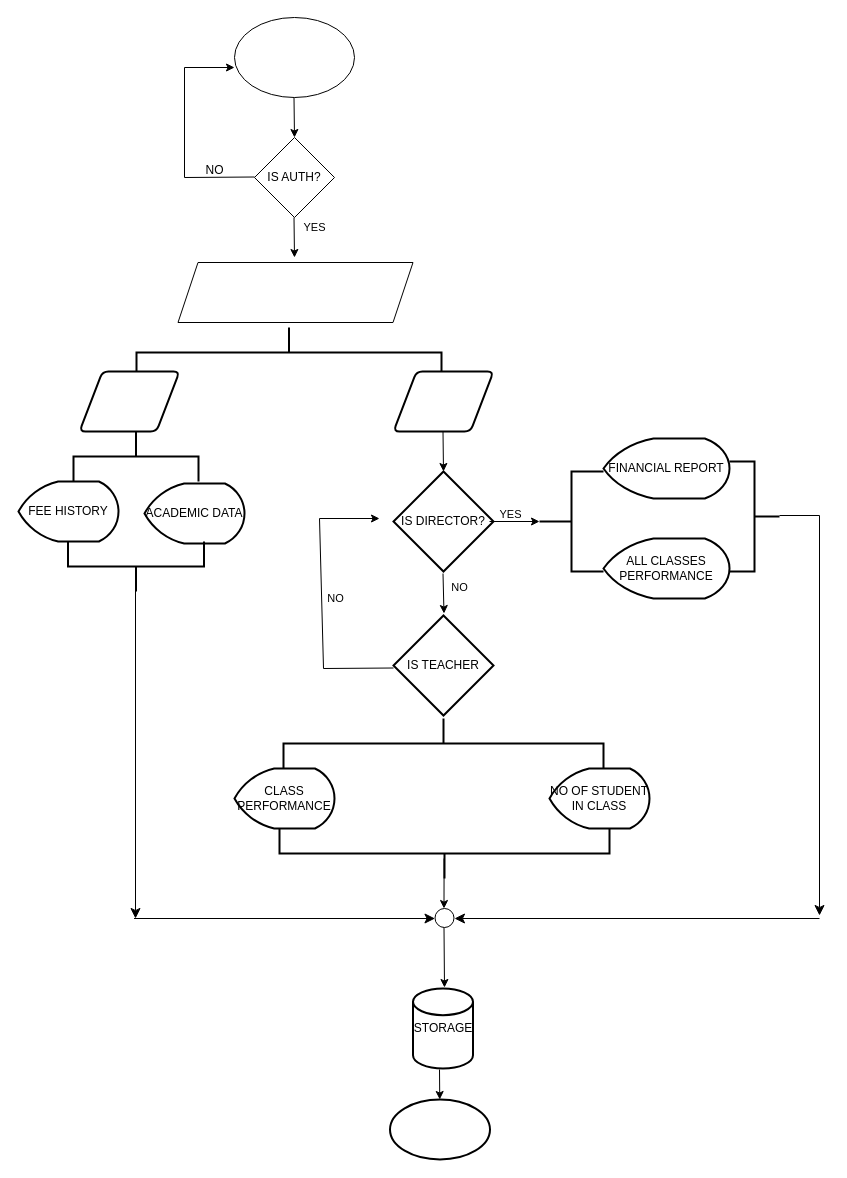
The diagram is 847 pixels wide and 1178 high, and some of its shapes have lost their labels. The shapes that lost their labels are listed below. From the top down, each one's centre as x and y in pixels, then its label:
pixel 294 57: START
pixel 295 292: USER ROLES
pixel 129 401: STUDENTS
pixel 443 401: STAFF
pixel 439 1129: END
